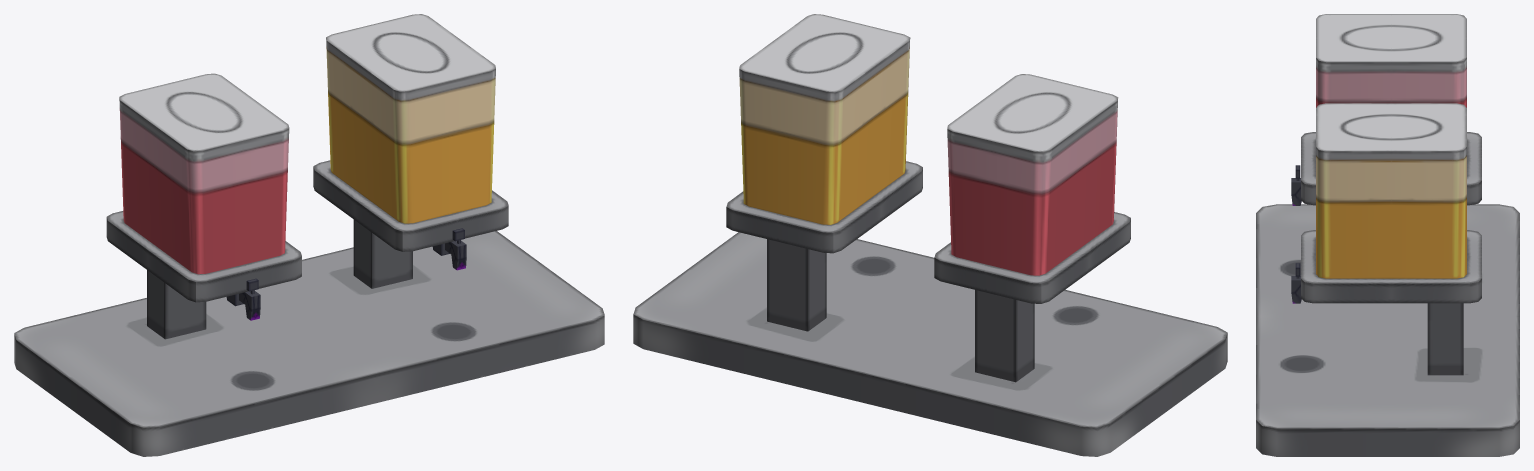
File: Smoothie_DispenserMesh_Fix.fbx
3 renders of one model, left to right at view 1: azimuth 30°, elevation 25°; view 2: azimuth 150°, elevation 25°; view 3: azimuth 270°, elevation 25°, orthographic. The views are drawn at different scales.
Parts seen in each view (by area): view 1: Smoothie_Dispenser, SmoothieFlavor02, SmoothieFlavor01; view 2: Smoothie_Dispenser, SmoothieFlavor02, SmoothieFlavor01; view 3: Smoothie_Dispenser, SmoothieFlavor02, SmoothieFlavor01.
Part boxes in pixels (bbox=[...]): Smoothie_Dispenser: bbox=[14, 160, 604, 456]; SmoothieFlavor02: bbox=[326, 14, 495, 223]; SmoothieFlavor01: bbox=[119, 73, 289, 274]; Smoothie_Dispenser: bbox=[633, 161, 1227, 456]; SmoothieFlavor02: bbox=[739, 14, 910, 224]; SmoothieFlavor01: bbox=[947, 74, 1118, 275]; Smoothie_Dispenser: bbox=[1256, 132, 1519, 456]; SmoothieFlavor02: bbox=[1316, 103, 1466, 278]; SmoothieFlavor01: bbox=[1316, 14, 1466, 107].
Size of the model in its own units: 2.56 by 1.42 by 1.27.
